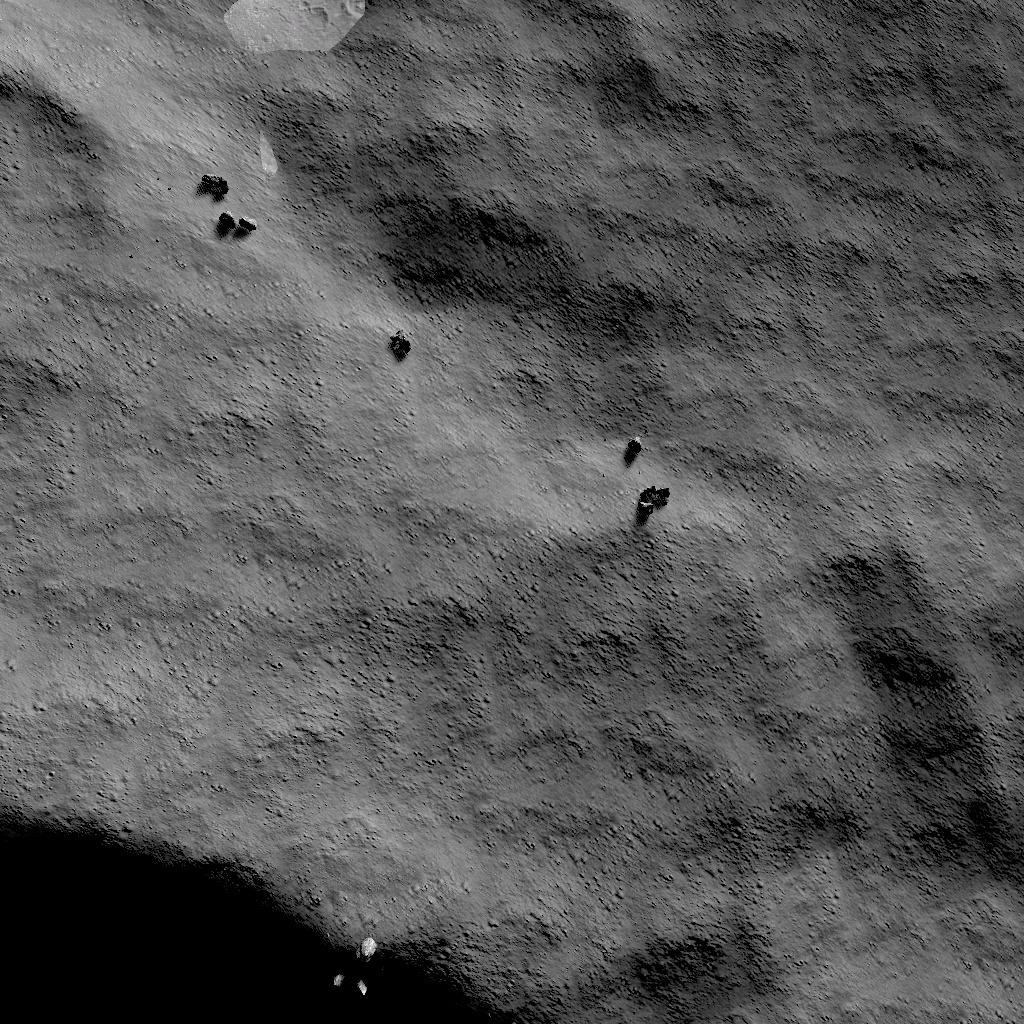Boulders: (215, 0, 371, 70)
Crater: (0, 786, 567, 1024), (0, 46, 155, 388)
Plan surface: (459, 0, 1024, 401), (1, 420, 607, 762), (691, 420, 1024, 1024)
